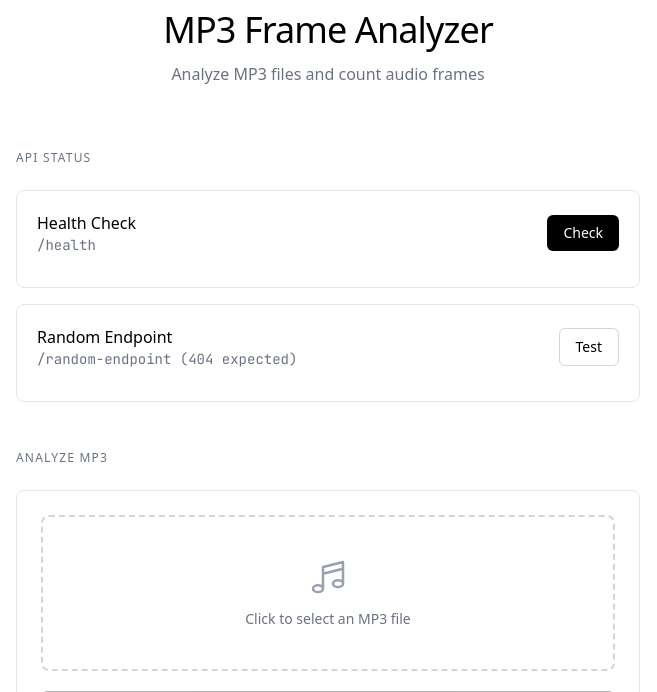
Test: Home Page › Random Endpoint functionality › displays connection error on network failure
This screenshot has width=657, height=692.
Click the button "Test". click: click(589, 347)
box: [558, 328, 619, 366]
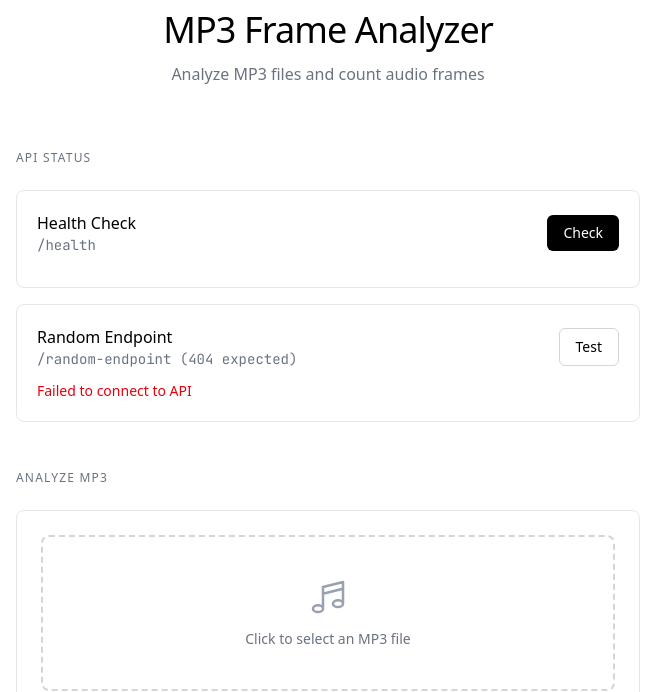
expect the text "Failed to connect to API" is shown: met, box [37, 381, 192, 400]
